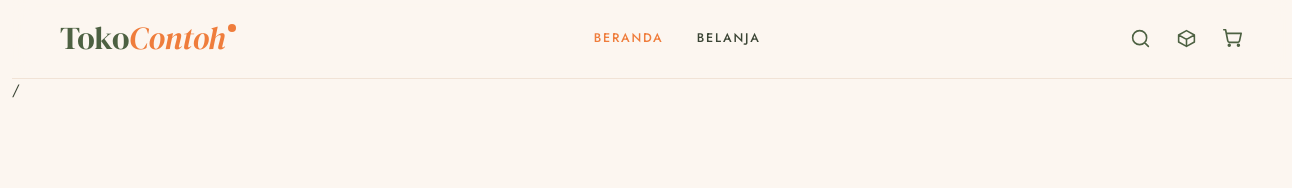
Test case: Header › searches the catalogue, trimmed, and closes the bar on the way
Click the button named "Cari produk" at (1140, 38), box [1118,16,1162,60]
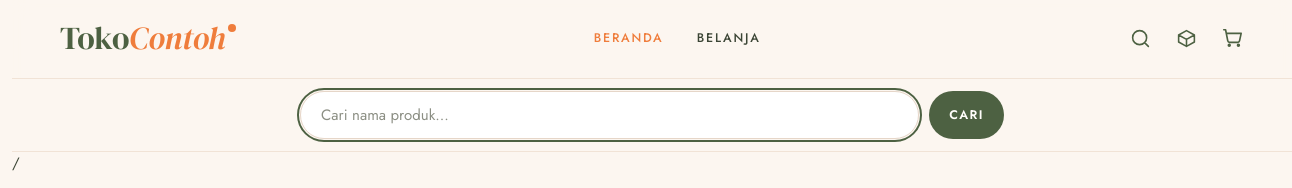
Type "  almond  " into the search field with placeholder "Cari nama produk…" at (610, 115), box [300,91,919,139]
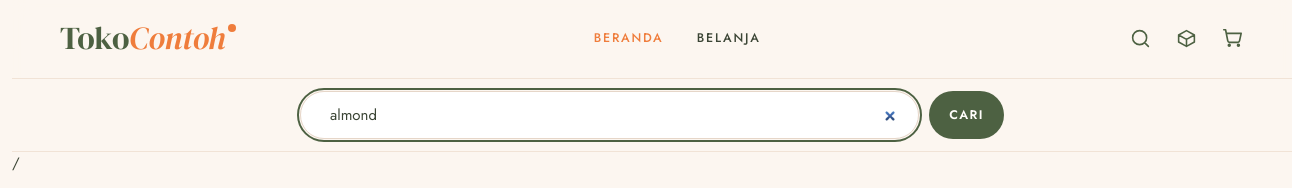
Submit the form, box [272,79,1032,151]
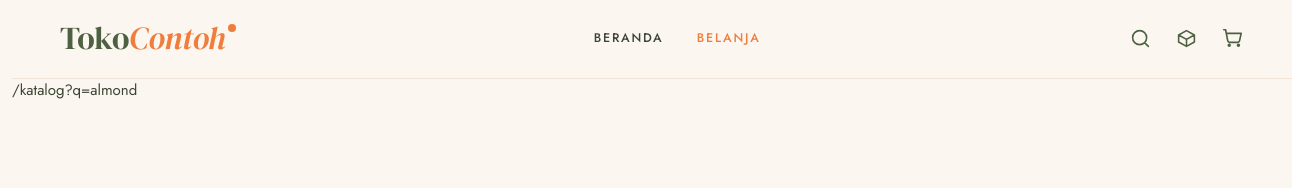
Expected: the text with test id "where" reads "/katalog?q=almond", [12,79,137,101]
Expected: the element with id "fl-search" is gone
